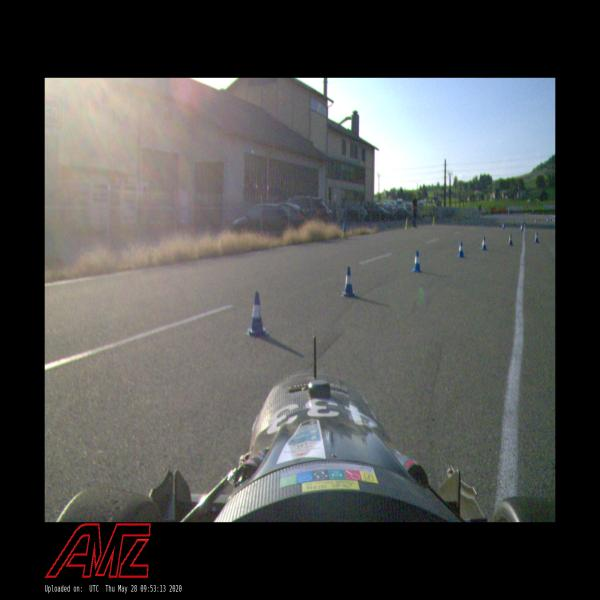blue_cone: (246, 291, 266, 337), (341, 266, 356, 297), (410, 250, 423, 273), (457, 240, 465, 258), (481, 236, 487, 251), (534, 231, 540, 243), (508, 234, 513, 246), (520, 223, 524, 231), (502, 221, 505, 229)
